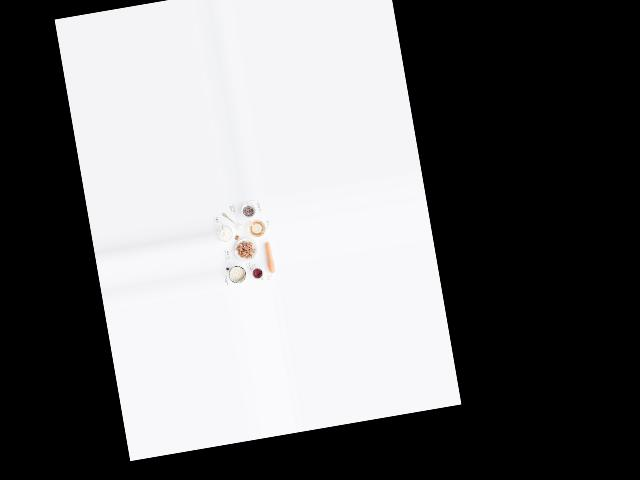carrot: (259, 238, 277, 276)
